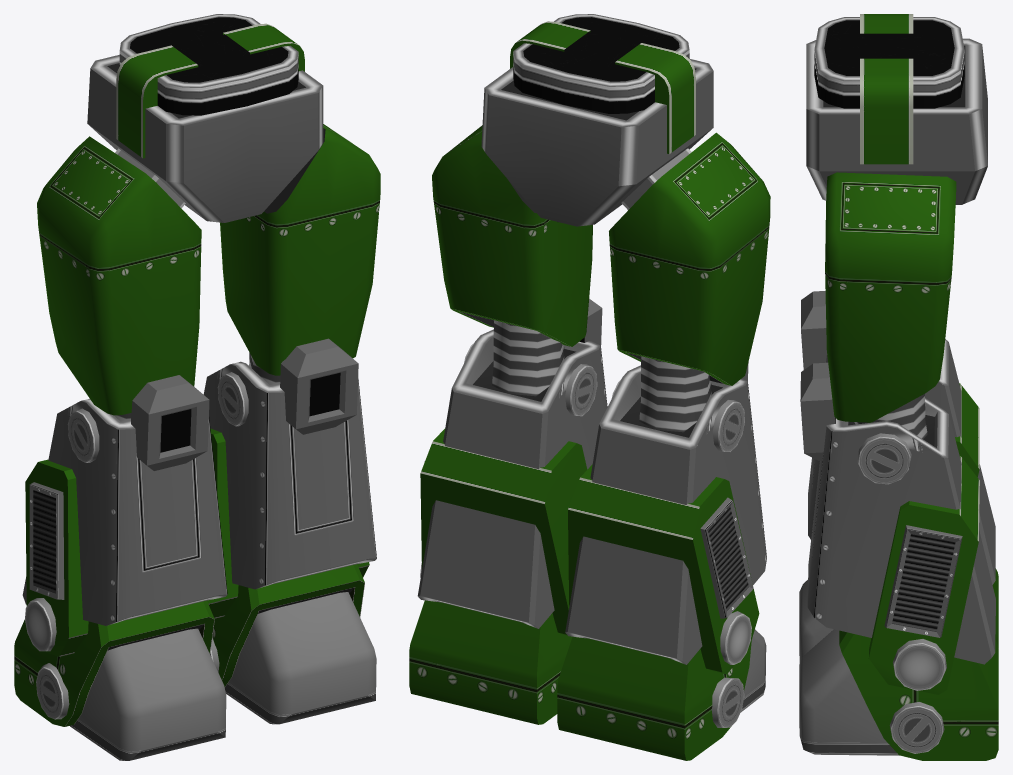
Rendered from legs_h.fbx.
3 renders of one model, left to right at view 1: azimuth 30°, elevation 25°; view 2: azimuth 150°, elevation 25°; view 3: azimuth 270°, elevation 25°, orthographic.
Parts seen in each view (by area): view 1: LEGS_H; view 2: LEGS_H; view 3: LEGS_H.
Part boxes in pixels (<box>): LEGS_H: <box>14,14,380,760</box>; LEGS_H: <box>409,14,770,760</box>; LEGS_H: <box>799,14,998,760</box>.
Bounding box in the file's own units: 47.23 × 94.96 × 26.53.
